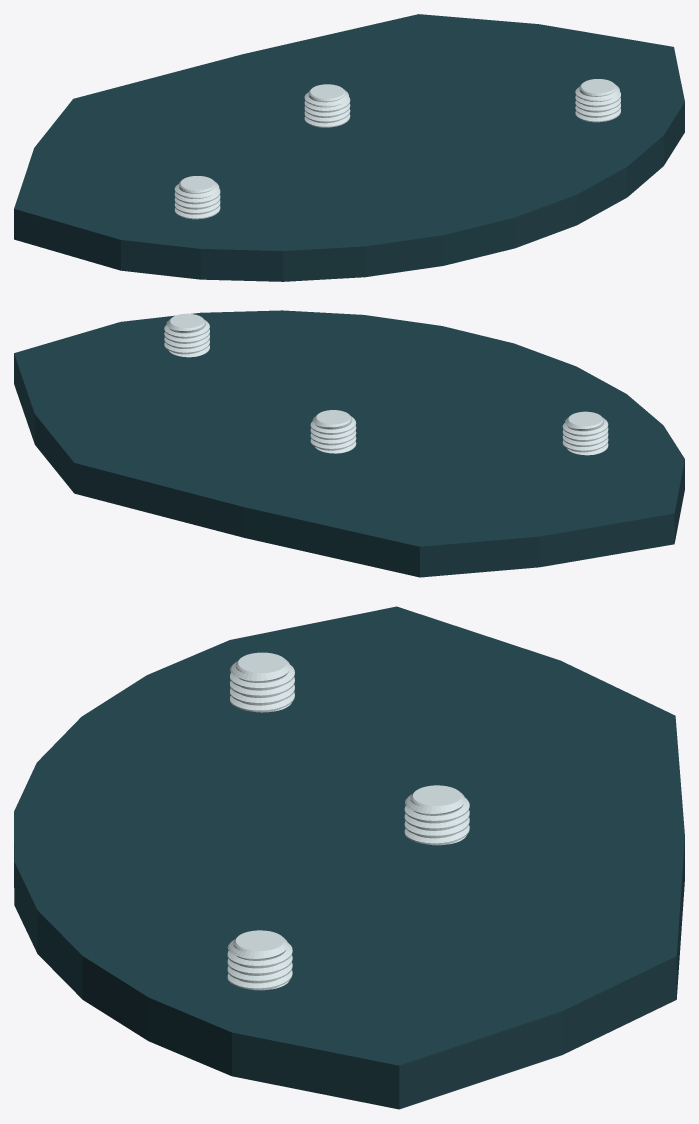
Rendered from Gear2.glb.
The picture shows the model from 3 angles, top to bottom: view 1: azimuth 30°, elevation 25°; view 2: azimuth 150°, elevation 25°; view 3: azimuth 270°, elevation 25°; orthographic projection. The views are drawn at different scales.
Visible parts, largest first — view 1: Circle.002, Bolt.010; view 2: Circle.002, Bolt.010; view 3: Circle.002, Bolt.010.
Part boxes in pixels (x1,y1,x2,y2): Circle.002: (14,14,684,281); Bolt.010: (174,79,620,219); Circle.002: (14,310,684,577); Bolt.010: (164,313,608,455); Circle.002: (14,606,684,1109); Bolt.010: (227,652,469,990).
Bounding box in the file's own units: 1.78 × 0.1668 × 1.1.
